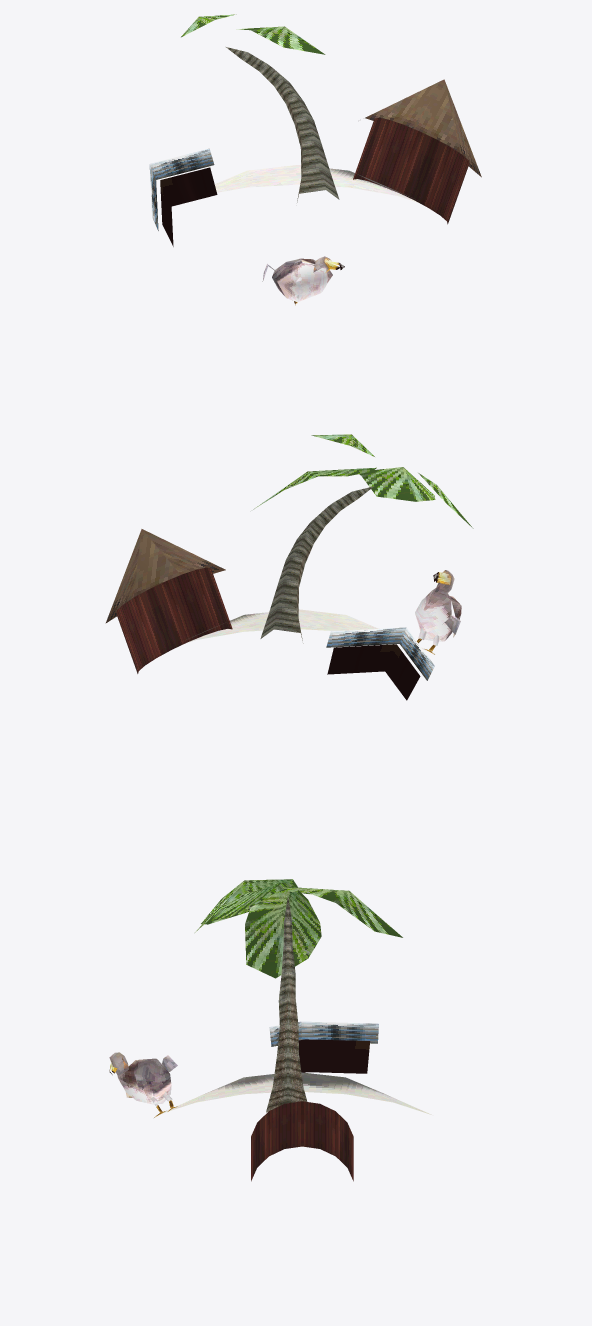
The model's file is ps2_save-icons_poolparadise.glb.
3 renders of one model, top to bottom at view 1: azimuth 30°, elevation 25°; view 2: azimuth 150°, elevation 25°; view 3: azimuth 270°, elevation 25°, orthographic.
Visible parts, largest first — view 1: ps2mc.ico; view 2: ps2mc.ico; view 3: ps2mc.ico.
Part boxes in pixels (x1=…): ps2mc.ico: x1=149, y1=14, x2=481, y2=305; ps2mc.ico: x1=105, y1=434, x2=473, y2=700; ps2mc.ico: x1=109, y1=879, x2=431, y2=1181.
Size of the model in its own units: 4.78 by 2.66 by 4.78.
1 material, 1 textured.
